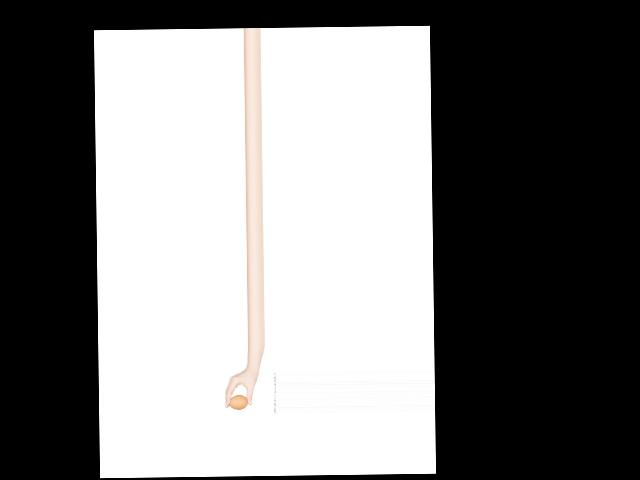egg: (228, 395, 248, 410)
